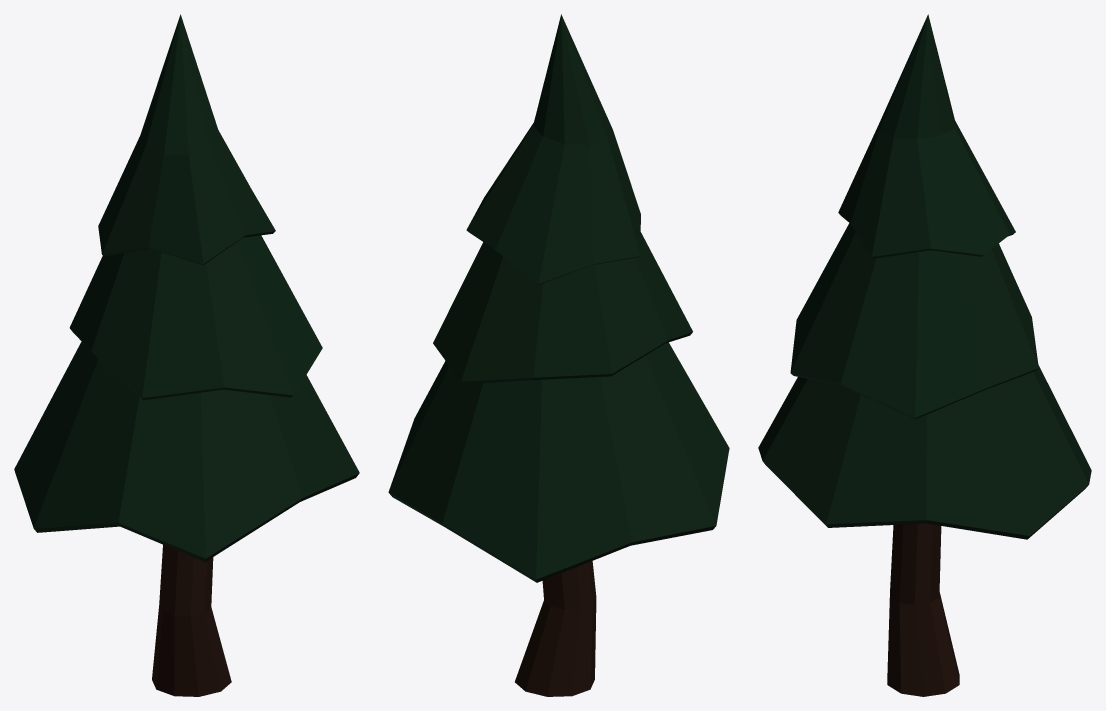
The model's file is PineTree02__FBX.fbx.
3 renders of one model, left to right at view 1: azimuth 30°, elevation 25°; view 2: azimuth 150°, elevation 25°; view 3: azimuth 270°, elevation 25°, orthographic.
Parts seen in each view (by area): view 1: PineTree_02; view 2: PineTree_02; view 3: PineTree_02.
Part boxes in pixels (bbox=[...]): PineTree_02: bbox=[14, 14, 359, 696]; PineTree_02: bbox=[388, 14, 729, 696]; PineTree_02: bbox=[758, 14, 1091, 696].
Size of the model in its own units: 277 by 594 by 271.
